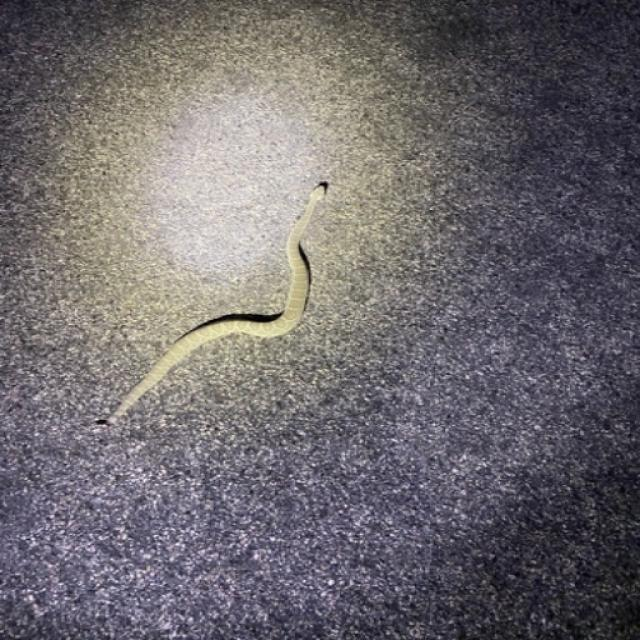snake: (102, 179, 365, 442)
